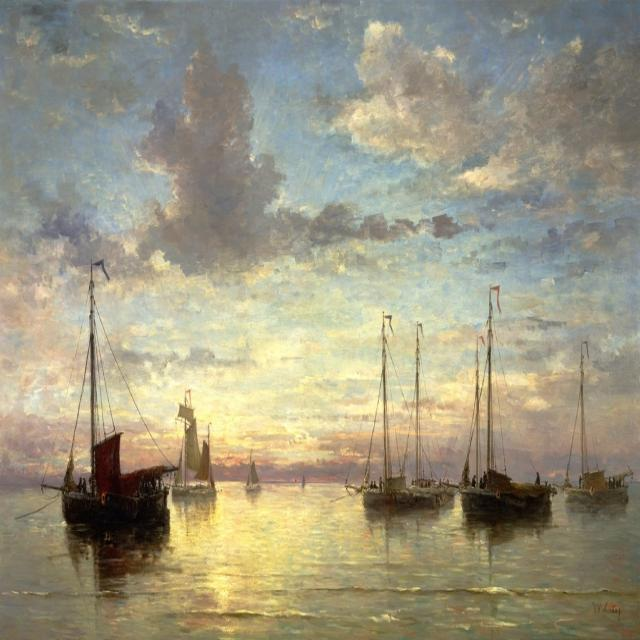Boat: (41, 262, 176, 532), (452, 294, 548, 544), (344, 313, 410, 513), (562, 337, 628, 510), (411, 320, 446, 506), (167, 388, 219, 500), (240, 448, 260, 492)
